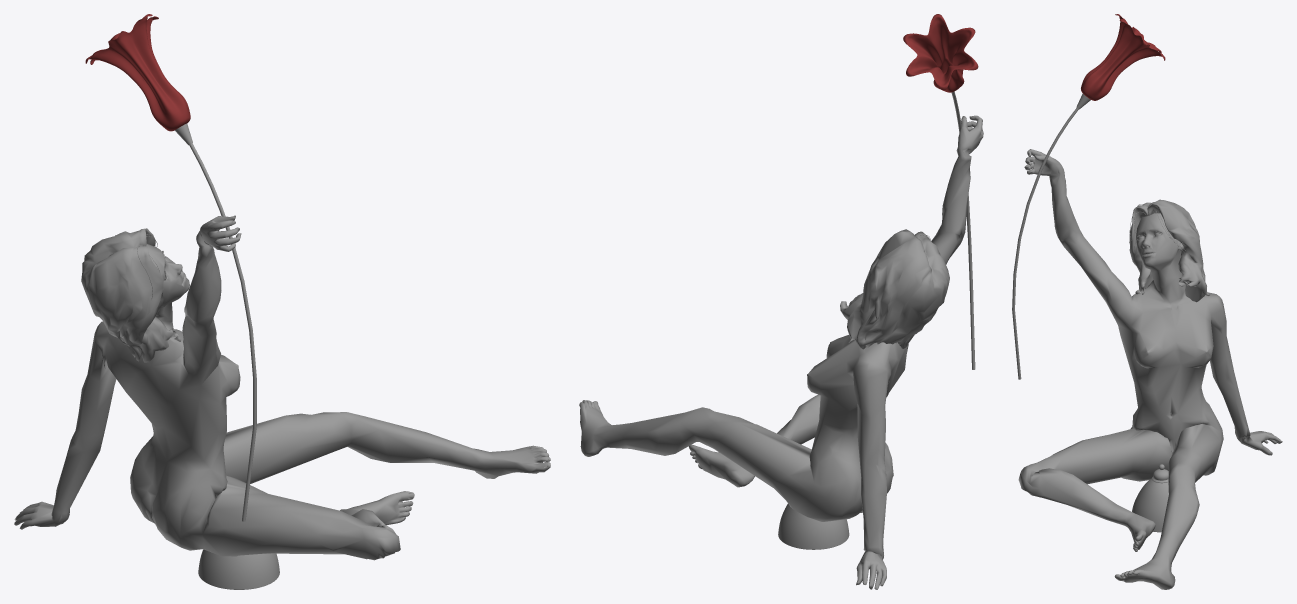
Rendered from sculpture1.FBX.
3 renders of one model, left to right at view 1: azimuth 30°, elevation 25°; view 2: azimuth 150°, elevation 25°; view 3: azimuth 270°, elevation 25°, orthographic. The views are drawn at different scales.
Visible parts, largest first — view 1: Figure 1, obj_05, obj_06, obj_07; view 2: Figure 1, obj_05, obj_06, obj_07; view 3: Figure 1, obj_05, obj_06, obj_07.
Part boxes in pixels (<box>): Figure 1: <box>14,215,550,560</box>; obj_05: <box>85,14,190,131</box>; obj_06: <box>198,549,279,589</box>; obj_07: <box>189,143,256,521</box>; Figure 1: <box>579,115,983,589</box>; obj_05: <box>903,14,978,92</box>; obj_06: <box>778,504,849,549</box>; obj_07: <box>951,91,975,369</box>; Figure 1: <box>1018,149,1282,589</box>; obj_05: <box>1081,14,1165,100</box>; obj_06: <box>1132,478,1168,532</box>; obj_07: <box>1012,108,1078,379</box>.
Bounding box in the file's own units: 1412 × 1789 × 961.
